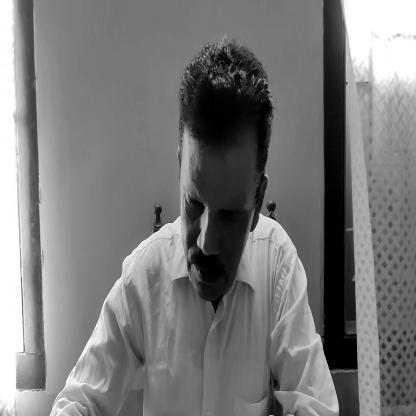Normal: (179, 49, 270, 300)
